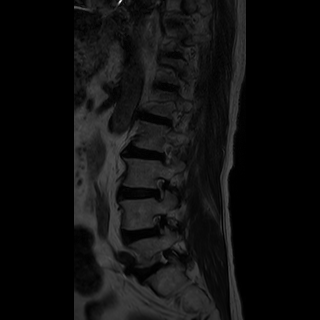LFS1: (149, 172, 172, 206)
LFS3: (146, 209, 171, 239)
